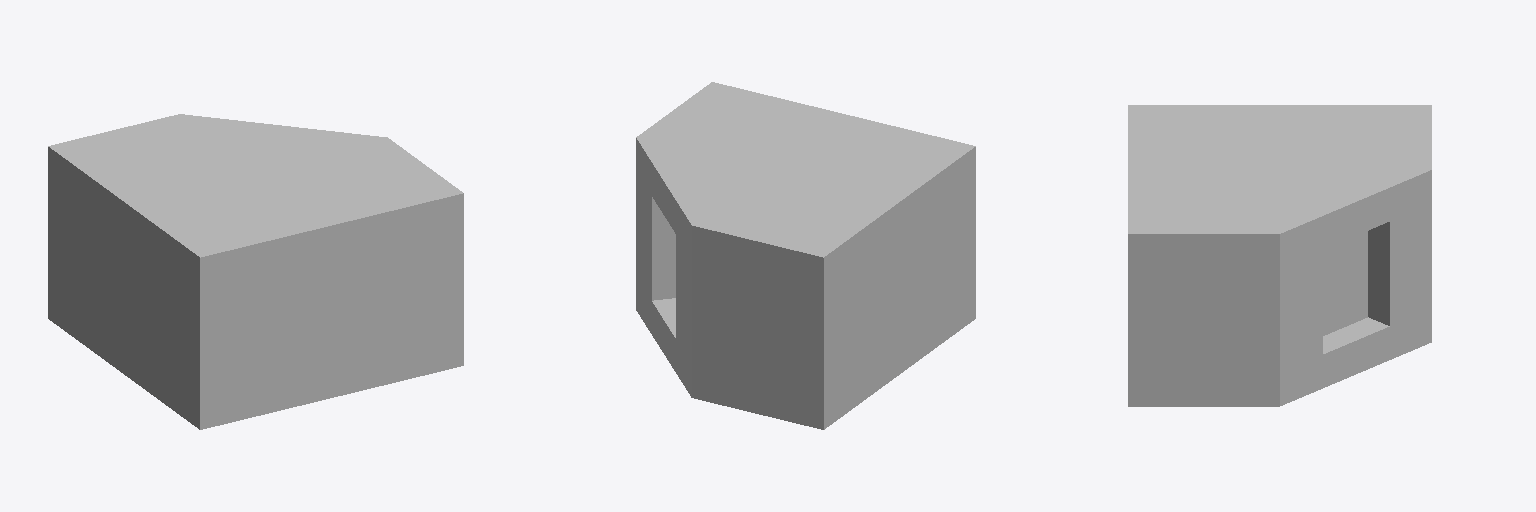
File: building_049.obj
The picture shows the model from 3 angles: view 1: azimuth 30°, elevation 25°; view 2: azimuth 150°, elevation 25°; view 3: azimuth 270°, elevation 25°; orthographic projection.
Parts seen in each view (by area): view 1: building_049; view 2: building_049; view 3: building_049.
Part boxes in pixels (x1,y1,x2,y2): building_049: (48, 114, 463, 429); building_049: (636, 82, 975, 429); building_049: (1128, 105, 1431, 406).
Bounding box in the file's own units: 1 × 0.625 × 1.